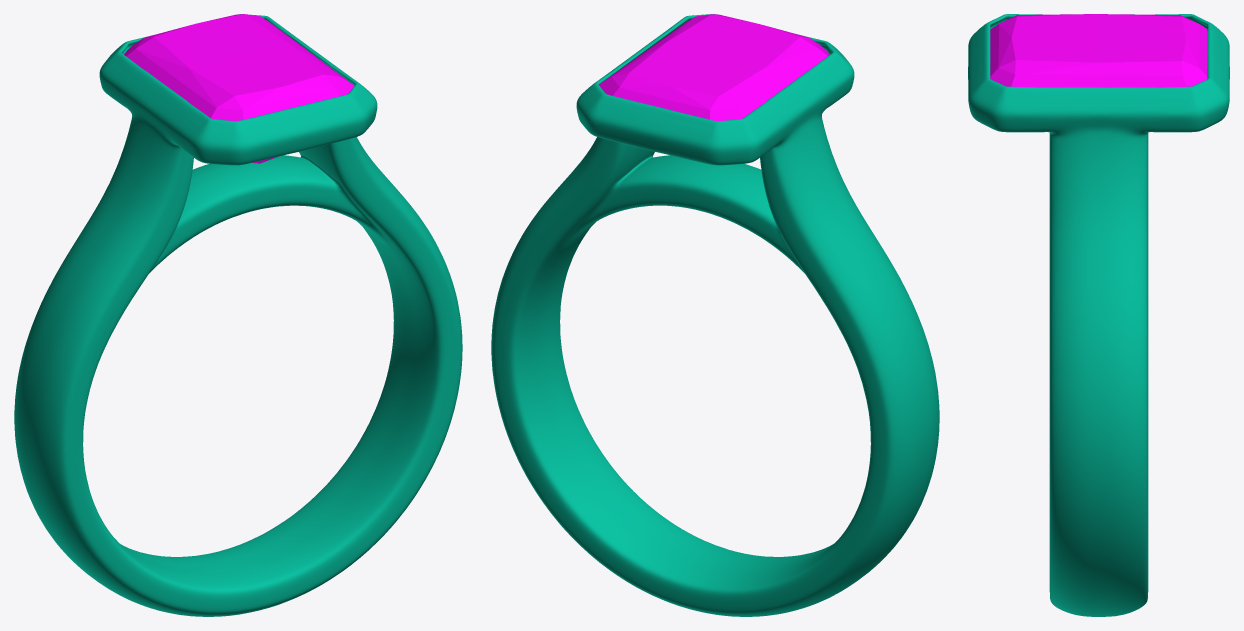
The model's file is BE1964_RA_200ct_RENDER.glb.
3 renders of one model, left to right at view 1: azimuth 30°, elevation 25°; view 2: azimuth 150°, elevation 25°; view 3: azimuth 270°, elevation 25°, orthographic.
Parts seen in each view (by area): view 1: Metal 01, CS_Diamond_Radiant; view 2: Metal 01, CS_Diamond_Radiant; view 3: Metal 01, CS_Diamond_Radiant.
Boxes of the visible parts, x1,y1,x2,y2 form: Metal 01: [14, 14, 462, 616]; CS_Diamond_Radiant: [124, 14, 354, 163]; Metal 01: [491, 14, 939, 616]; CS_Diamond_Radiant: [599, 14, 829, 120]; Metal 01: [968, 14, 1229, 616]; CS_Diamond_Radiant: [990, 14, 1207, 87].
Size of the model in its own units: 20.11 by 24.94 by 10.65.
